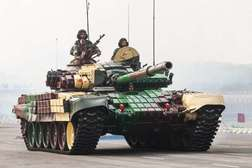t72: (15, 53, 225, 155)
